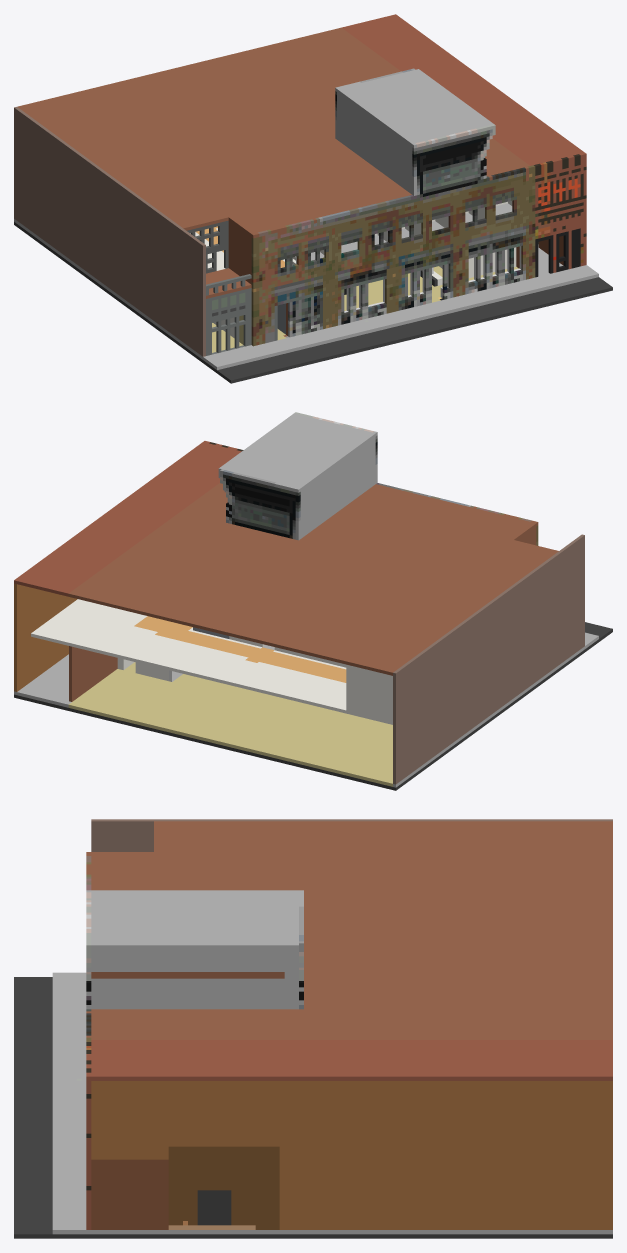
File: smallerCampus75.obj
3 renders of one model, top to bottom at view 1: azimuth 30°, elevation 25°; view 2: azimuth 150°, elevation 25°; view 3: azimuth 270°, elevation 25°, orthographic. The views are drawn at different scales.
Bounding box in the file's own units: 126 × 53 × 124.
1 material, 1 textured.
